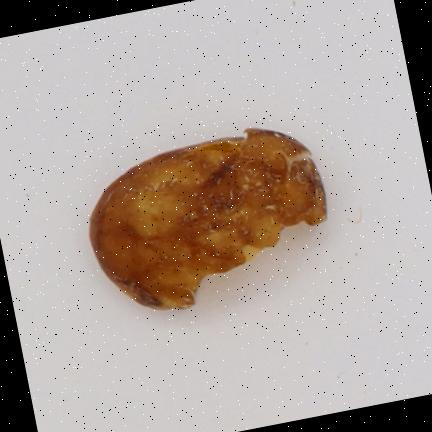parchment: (92, 130, 326, 307)
